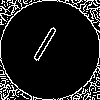I: (25, 25, 60, 71)
